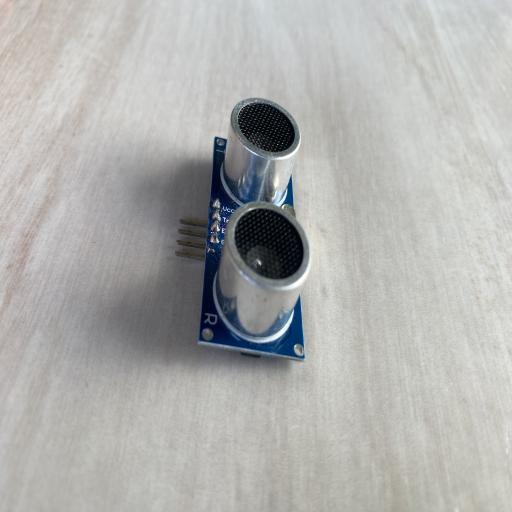Ultrasonic Sensor: (173, 96, 312, 362)
